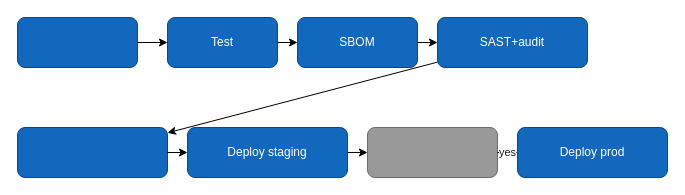
Some shapes in this 685 by 195 pixel diagram are drawn without their labels. Here are the shapes that lost their labels. From the top down, the centre of each, then its label:
(x=77, y=42): Git push
(x=92, y=152): Sign (ML-DSA)
(x=432, y=152): Approval
